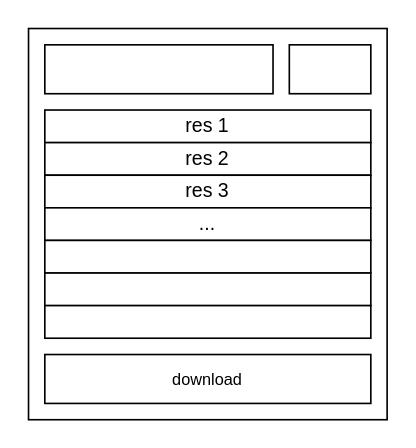
Some shapes in this 416 by 448 pixel diagram are drawn without their labels. Here are the shapes that lost their labels. From the top down, the centre of each, then its label:
At point 158,68: "query".
At point 329,68: "search".
